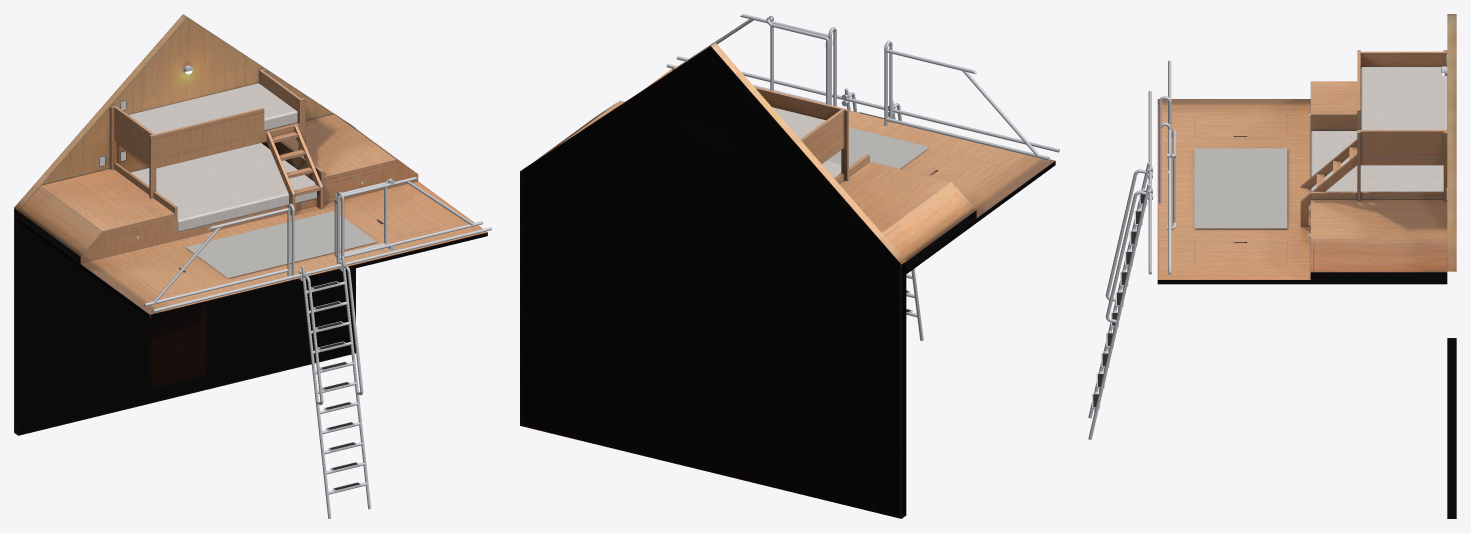
File: Mezzanine Bunk.glb
The picture shows the model from 3 angles, left to right: view 1: azimuth 30°, elevation 25°; view 2: azimuth 150°, elevation 25°; view 3: azimuth 270°, elevation 25°; orthographic projection. The views are drawn at different scales.
Parts seen in each view (by area): view 1: Interior_Wood_Black_Base_Bed1.001, Interior_Wood_Bed, White_fabric_Bed, Alumininum_1_Bed; view 2: Interior_Wood_Black_Base_Bed1.001, Interior_Wood_Bed, Alumininum_1_Bed, White_fabric_Bed; view 3: Interior_Wood_Bed, White_fabric_Bed, Alumininum_1_Bed, Interior_Wood_Black_Base_Bed1.001.
Boxes of the visible parts, x1,y1,x2,y2 form: Interior_Wood_Black_Base_Bed1.001: (14,14,355,435); Interior_Wood_Bed: (18,69,487,318); White_fabric_Bed: (129,83,376,278); Alumininum_1_Bed: (136,65,491,518); Interior_Wood_Black_Base_Bed1.001: (520,42,906,518); Interior_Wood_Bed: (537,67,1055,273); Alumininum_1_Bed: (666,14,1059,340); White_fabric_Bed: (772,107,929,177); Interior_Wood_Bed: (1157,50,1447,284); White_fabric_Bed: (1194,67,1447,228); Alumininum_1_Bed: (1088,60,1447,439); Interior_Wood_Black_Base_Bed1.001: (1447,14,1456,518).
Bounding box in the file's own units: 1.88 × 2.01 × 1.62.
9 materials, 5 textured.
